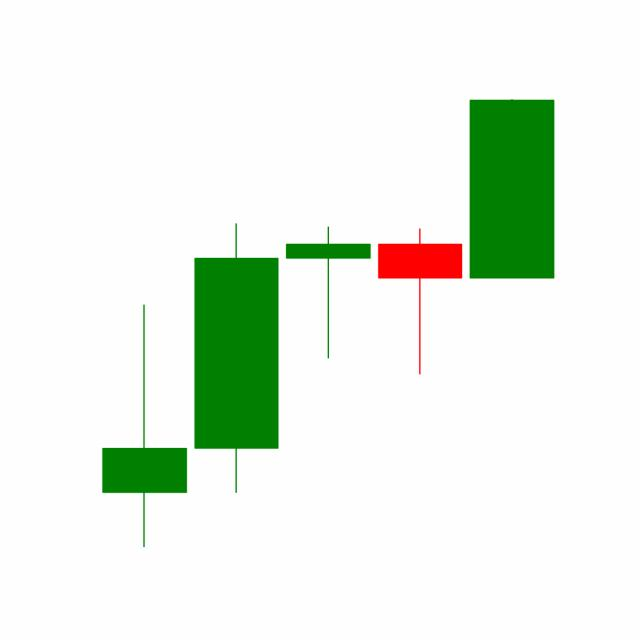Marubozu: (464, 96, 558, 280)
